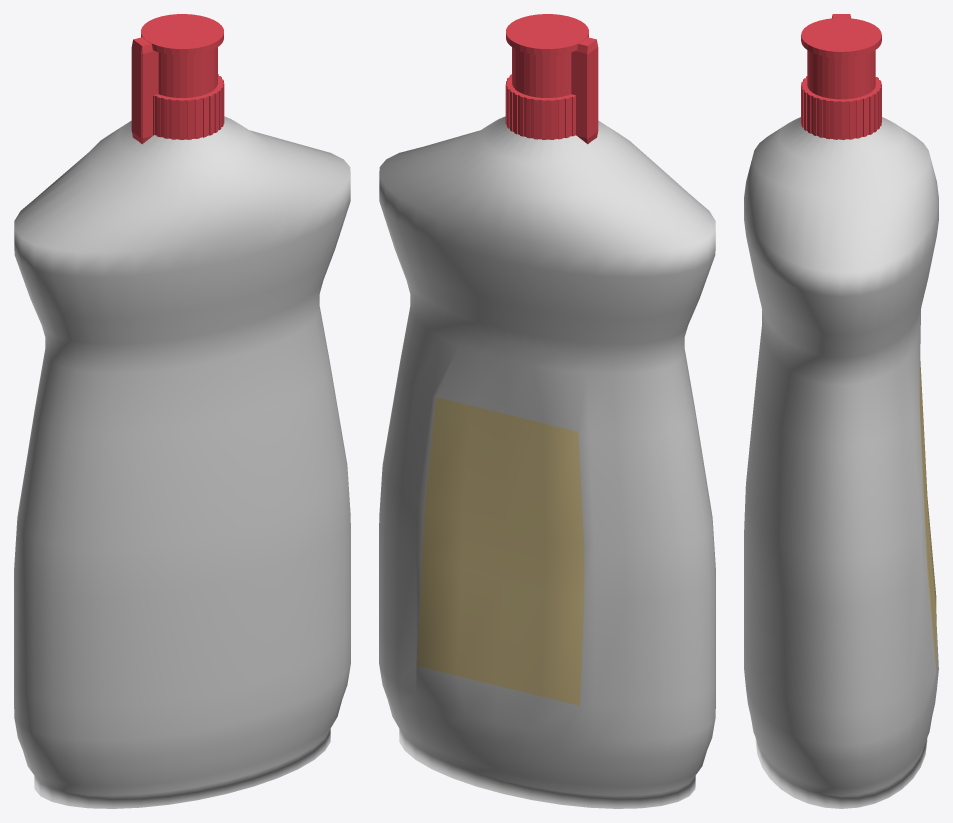
The model's file is fairy.fbx.
3 views of the same model, side by side, from view 1: azimuth 30°, elevation 25°; view 2: azimuth 150°, elevation 25°; view 3: azimuth 270°, elevation 25° (orthographic). The views are drawn at different scales.
Visible parts, largest first — view 1: Cylinder, Cylinder.001, Cube; view 2: Cylinder, Cylinder.001, Cube; view 3: Cylinder, Cylinder.001.
Boxes of the visible parts, x1=… form: Cylinder: x1=14, y1=116, x2=350, y2=808; Cylinder.001: x1=141, y1=14, x2=224, y2=139; Cube: x1=131, y1=37, x2=158, y2=144; Cylinder: x1=379, y1=116, x2=715, y2=808; Cylinder.001: x1=505, y1=14, x2=588, y2=139; Cube: x1=571, y1=37, x2=598, y2=144; Cylinder: x1=744, y1=117, x2=938, y2=808; Cylinder.001: x1=801, y1=18, x2=881, y2=139.
Bounding box in the file's own units: 219 × 472 × 118.
